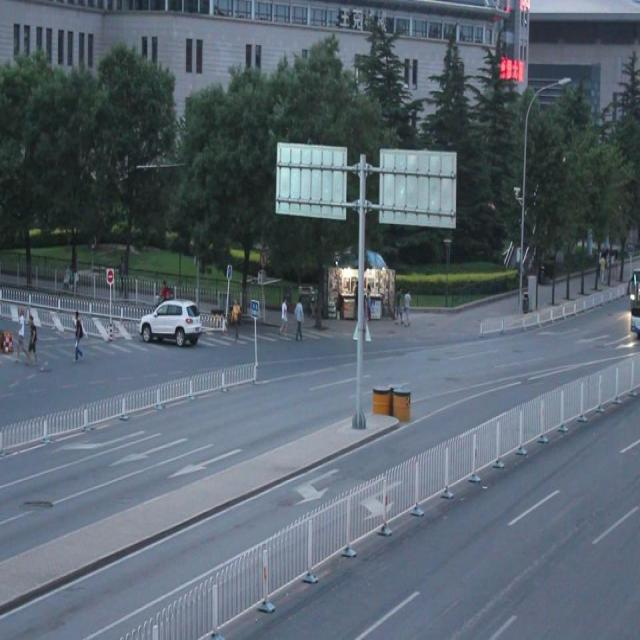car: (140, 298, 202, 348)
van: (620, 262, 640, 346)
